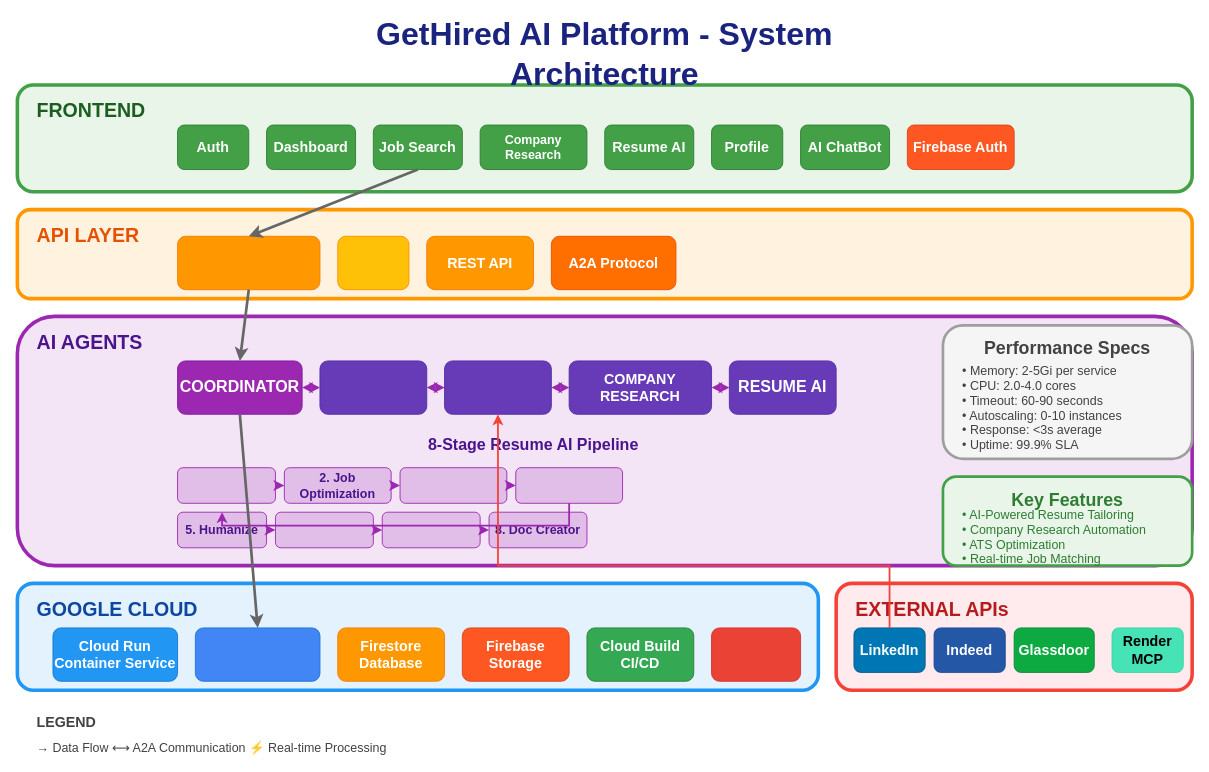
Some shapes in this 1209 by 772 pixel diagram are drawn without their labels. The shapes that lost their labels are listed below. From the top down, each one's centre as x and y in pixels, then its label:
At point (248, 262): "FastAPI Server".
At point (373, 262): "CORS".
At point (373, 387): "JOB COACH".
At point (497, 387): "JOB LISTING".
At point (226, 485): "1. Base Cleanup".
At point (453, 485): "3. Experience Opt".
At point (569, 485): "4. ATS Optimization".
At point (324, 529): "6. Proof Reader".
At point (430, 529): "7. Format Helper".
At point (257, 654): "Vertex AI Gemini Models".
At point (756, 654): "IAM Security".
